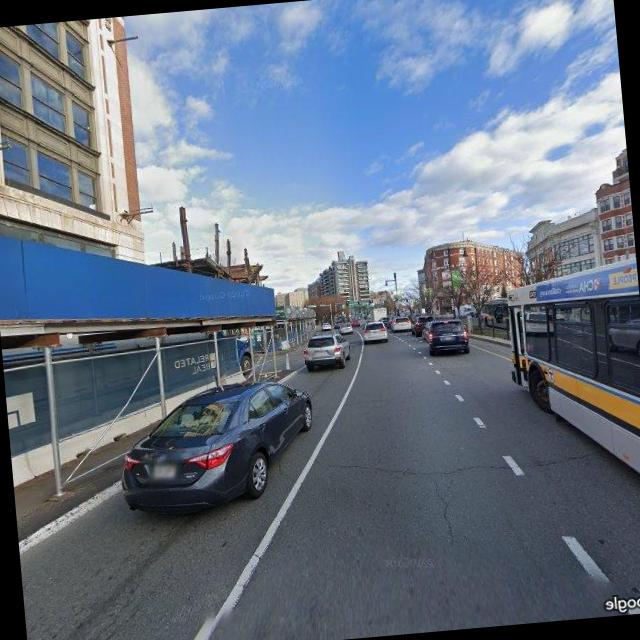crack: (328, 434, 604, 494), (427, 472, 462, 546)
